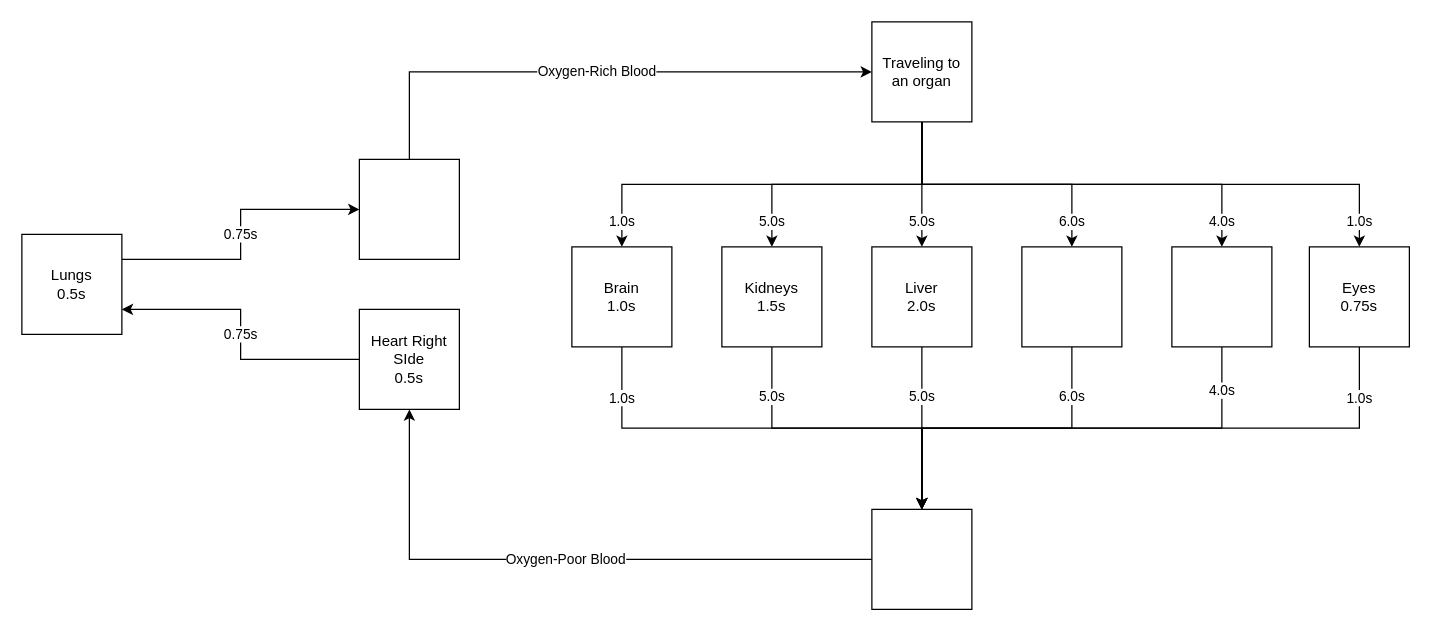
The diagram is 1431 pixels wide and 631 high, and some of its shapes have lost their labels. The shapes that lost their labels are listed below. From the top down, each one's box as (x1, y1, x2, y2) in pixels, then its label:
(358, 158, 459, 259): Heart Left SIde 0.5s
(1021, 246, 1122, 347): Muscles 2.0s
(1171, 246, 1272, 347): Skin 1.5s
(871, 508, 972, 609): Traveling to heart
